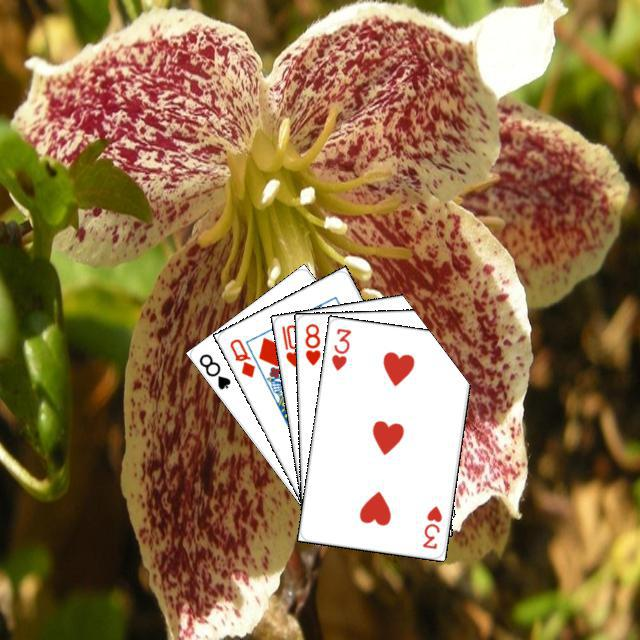10h: (277, 319, 303, 368)
3h: (417, 501, 444, 550), (327, 323, 353, 372)
8h: (300, 318, 322, 367)
8s: (194, 348, 232, 391)
Qd: (224, 333, 257, 379)
